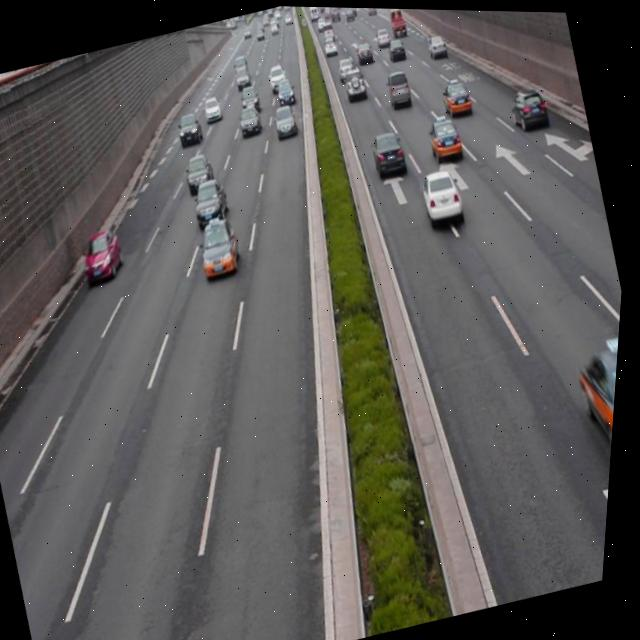car: (567, 326, 623, 471), (193, 212, 247, 279), (79, 225, 133, 285), (418, 163, 469, 225), (504, 79, 551, 135), (189, 172, 234, 229), (368, 126, 410, 178), (424, 112, 465, 163), (438, 73, 476, 119), (182, 150, 220, 193), (271, 101, 300, 136)
truck: (383, 68, 414, 108)
